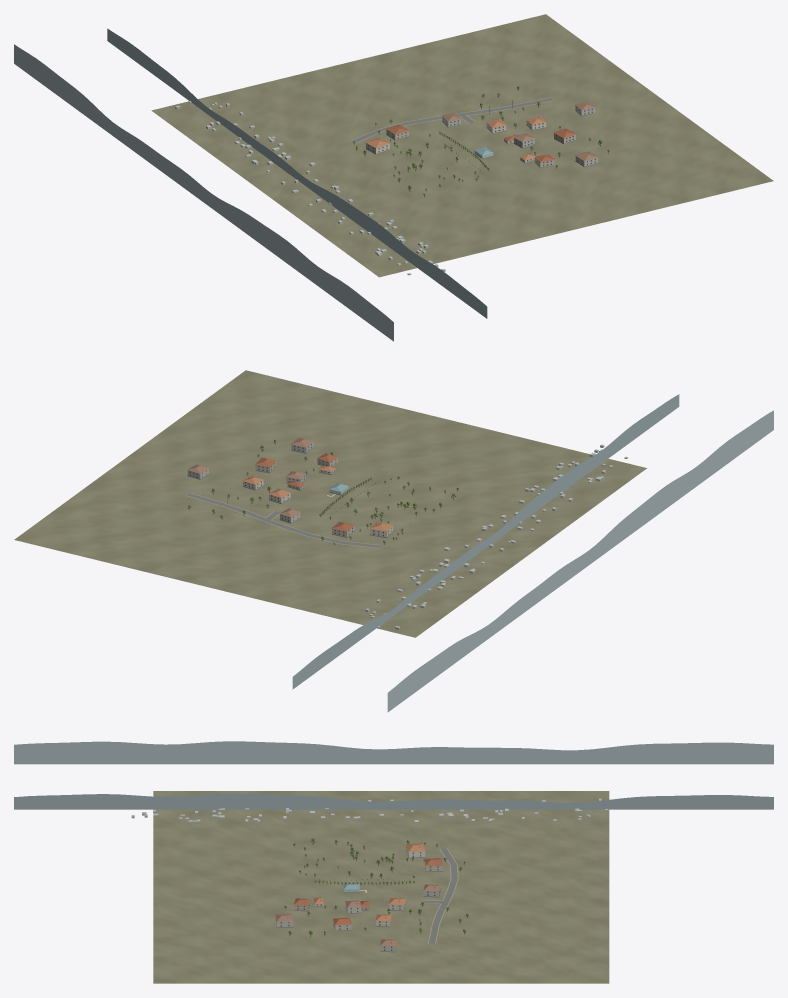
File: context-r05.glb
The picture shows the model from 3 angles, top to bottom: view 1: azimuth 30°, elevation 25°; view 2: azimuth 150°, elevation 25°; view 3: azimuth 270°, elevation 25°; orthographic projection.
Visible parts, largest first — view 1: context_ground, context_backdrop, context_planting, context_neighbour.002; view 2: context_ground, context_backdrop, context_neighbour.002, context_planting; view 3: context_ground, context_backdrop, context_planting, context_neighbour.002.
Part boxes in pixels (bbox=[...]): context_ground: bbox=[151, 14, 773, 277]; context_backdrop: bbox=[14, 28, 487, 341]; context_planting: bbox=[353, 86, 609, 197]; context_neighbour.002: bbox=[350, 94, 553, 143]; context_ground: bbox=[14, 370, 646, 637]; context_backdrop: bbox=[292, 394, 773, 712]; context_neighbour.002: bbox=[186, 489, 380, 548]; context_planting: bbox=[187, 439, 458, 556]; context_ground: bbox=[153, 791, 609, 983]; context_backdrop: bbox=[14, 741, 773, 823]; context_planting: bbox=[284, 838, 468, 940]; context_neighbour.002: bbox=[423, 848, 458, 943].
Bounding box in the file's own units: 410 × 19.9 × 600.
